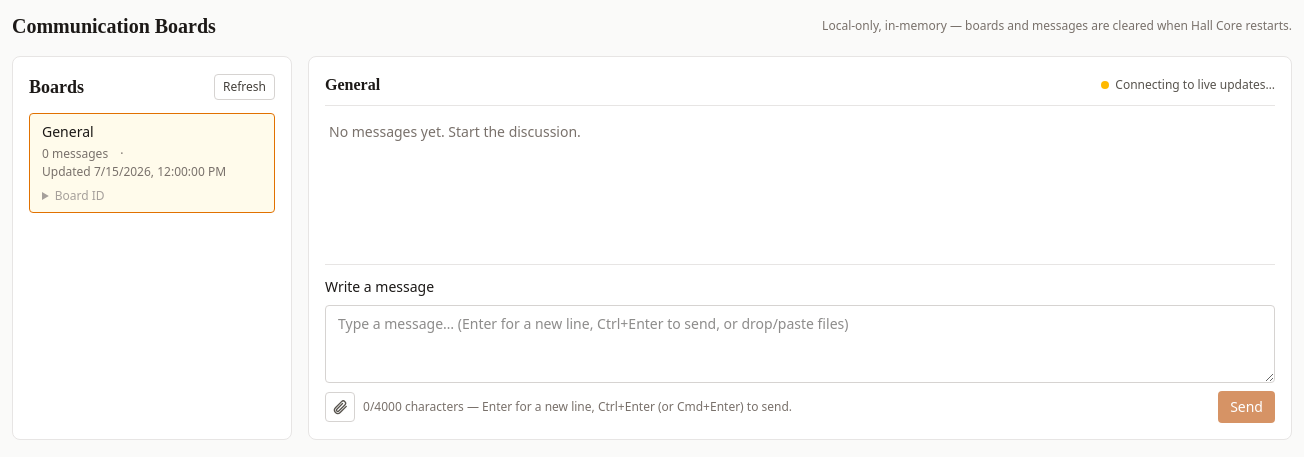
Scenario: CommunicationBoards › keeps existing boards visible when a refresh fails
Expected: the heading "General" is shown, 325,73 -> 380,97
Click the button "Refresh" at coordinates (244, 87), box 214,74 -> 275,100
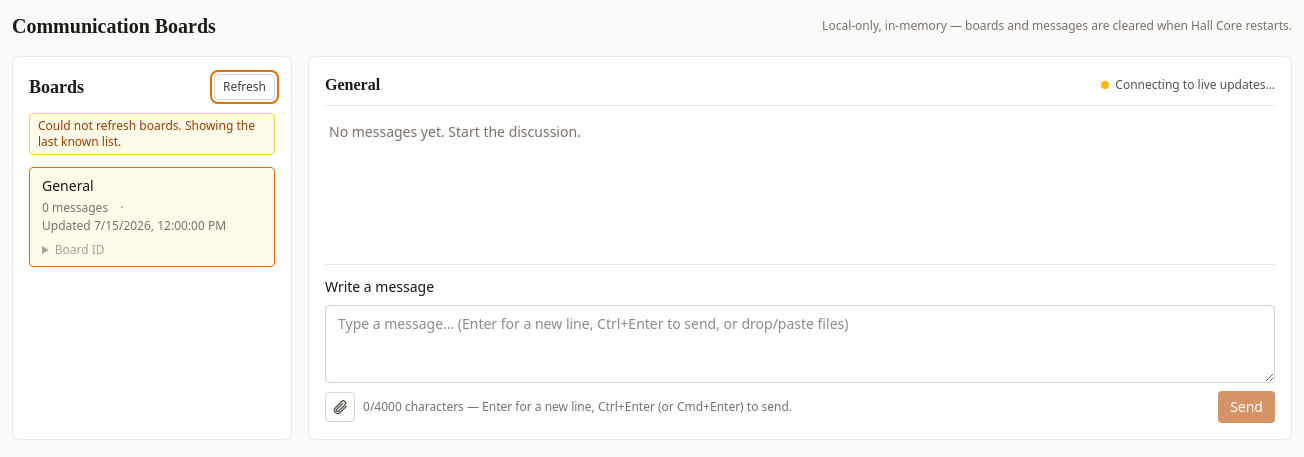
Expected: the heading "General" is shown, 325,73 -> 380,97
Result: the text "Could not refresh boards. Showing the last known list." is shown at 29,113 -> 275,155
